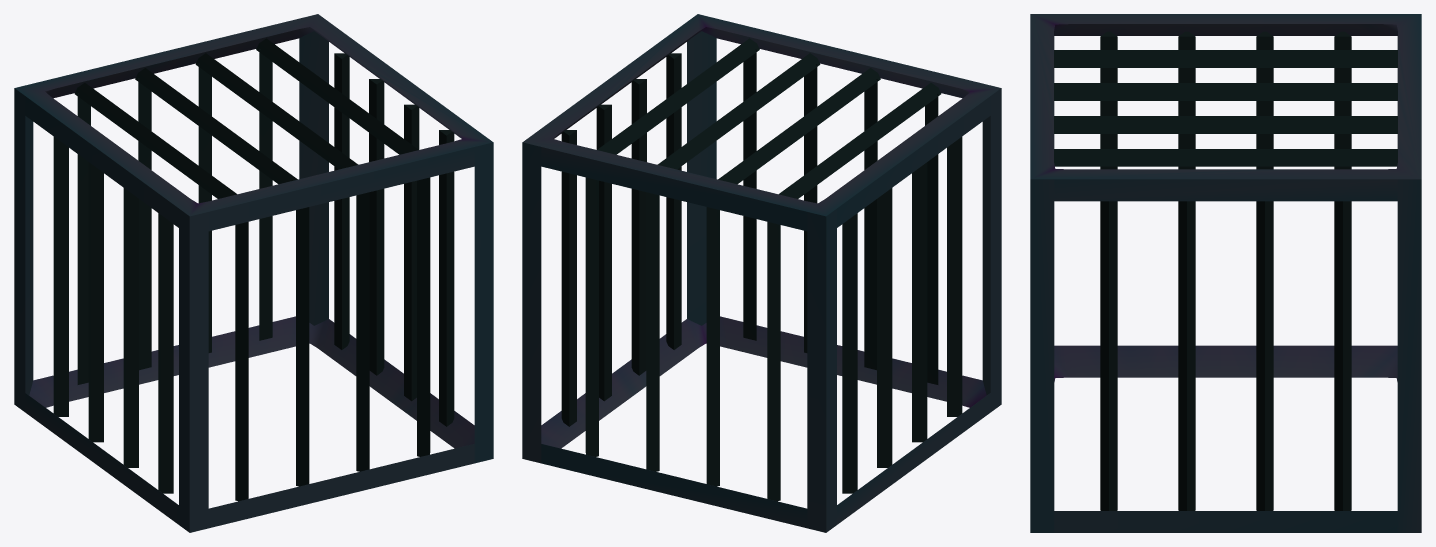
3 renders of one model, left to right at view 1: azimuth 30°, elevation 25°; view 2: azimuth 150°, elevation 25°; view 3: azimuth 270°, elevation 25°, orthographic. The views are drawn at different scales.
Visible parts, largest first — view 1: top, base, post, post.001, post.002, post.003, bars_y.015, bars_y.013, bars_y.016, bars_y.014, bars_y.009, bars_y.011 (+14 smaller); view 2: top, base, post.002, post.003, post, post.001, bars_y.014, bars_y.016, bars_y.013, bars_y.015, bars_y.012, bars_y.010 (+14 smaller); view 3: top, base, post.001, post.003, roof.001, roof.002, roof.003, roof.004, bars_y.009, bars_y.010, bars_y.011, bars_y.012 (+4 smaller).
Part boxes in pixels (left/top/right/bottom): top: left=15, top=14, right=492, bottom=231; base: left=25, top=316, right=474, bottom=528; post: left=179, top=209, right=208, bottom=532; post.001: left=474, top=142, right=493, bottom=463; post.002: left=14, top=88, right=33, bottom=411; post.003: left=299, top=31, right=328, bottom=325; bars_y.015: left=88, top=162, right=103, bottom=442; bars_y.013: left=158, top=213, right=173, bottom=493; bars_y.016: left=53, top=137, right=68, bottom=416; bars_y.014: left=123, top=188, right=138, bottom=467; bars_y.009: left=439, top=130, right=454, bottom=426; bars_y.011: left=369, top=79, right=384, bottom=375; top: left=523, top=14, right=1000, bottom=231; base: left=541, top=316, right=990, bottom=528; post.002: left=807, top=209, right=836, bottom=532; post.003: left=522, top=142, right=541, bottom=463; post: left=982, top=88, right=1001, bottom=411; post.001: left=687, top=31, right=716, bottom=325; bars_y.014: left=912, top=162, right=927, bottom=442; bars_y.016: left=842, top=213, right=857, bottom=493; bars_y.013: left=947, top=137, right=962, bottom=416; bars_y.015: left=877, top=188, right=892, bottom=467; bars_y.012: left=561, top=130, right=576, bottom=426; bars_y.010: left=631, top=79, right=646, bottom=375; top: left=1030, top=14, right=1421, bottom=201; base: left=1054, top=345, right=1397, bottom=532; post.001: left=1030, top=179, right=1054, bottom=532; post.003: left=1397, top=179, right=1421, bottom=532; roof.001: left=1054, top=50, right=1397, bottom=67; roof.002: left=1054, top=83, right=1397, bottom=100; roof.003: left=1054, top=116, right=1397, bottom=133; roof.004: left=1054, top=149, right=1397, bottom=166; bars_y.009: left=1100, top=201, right=1117, bottom=510; bars_y.010: left=1178, top=201, right=1195, bottom=510; bars_y.011: left=1256, top=201, right=1273, bottom=510; bars_y.012: left=1334, top=201, right=1351, bottom=510.
Bounding box in the file's own units: 1 × 1 × 1.
